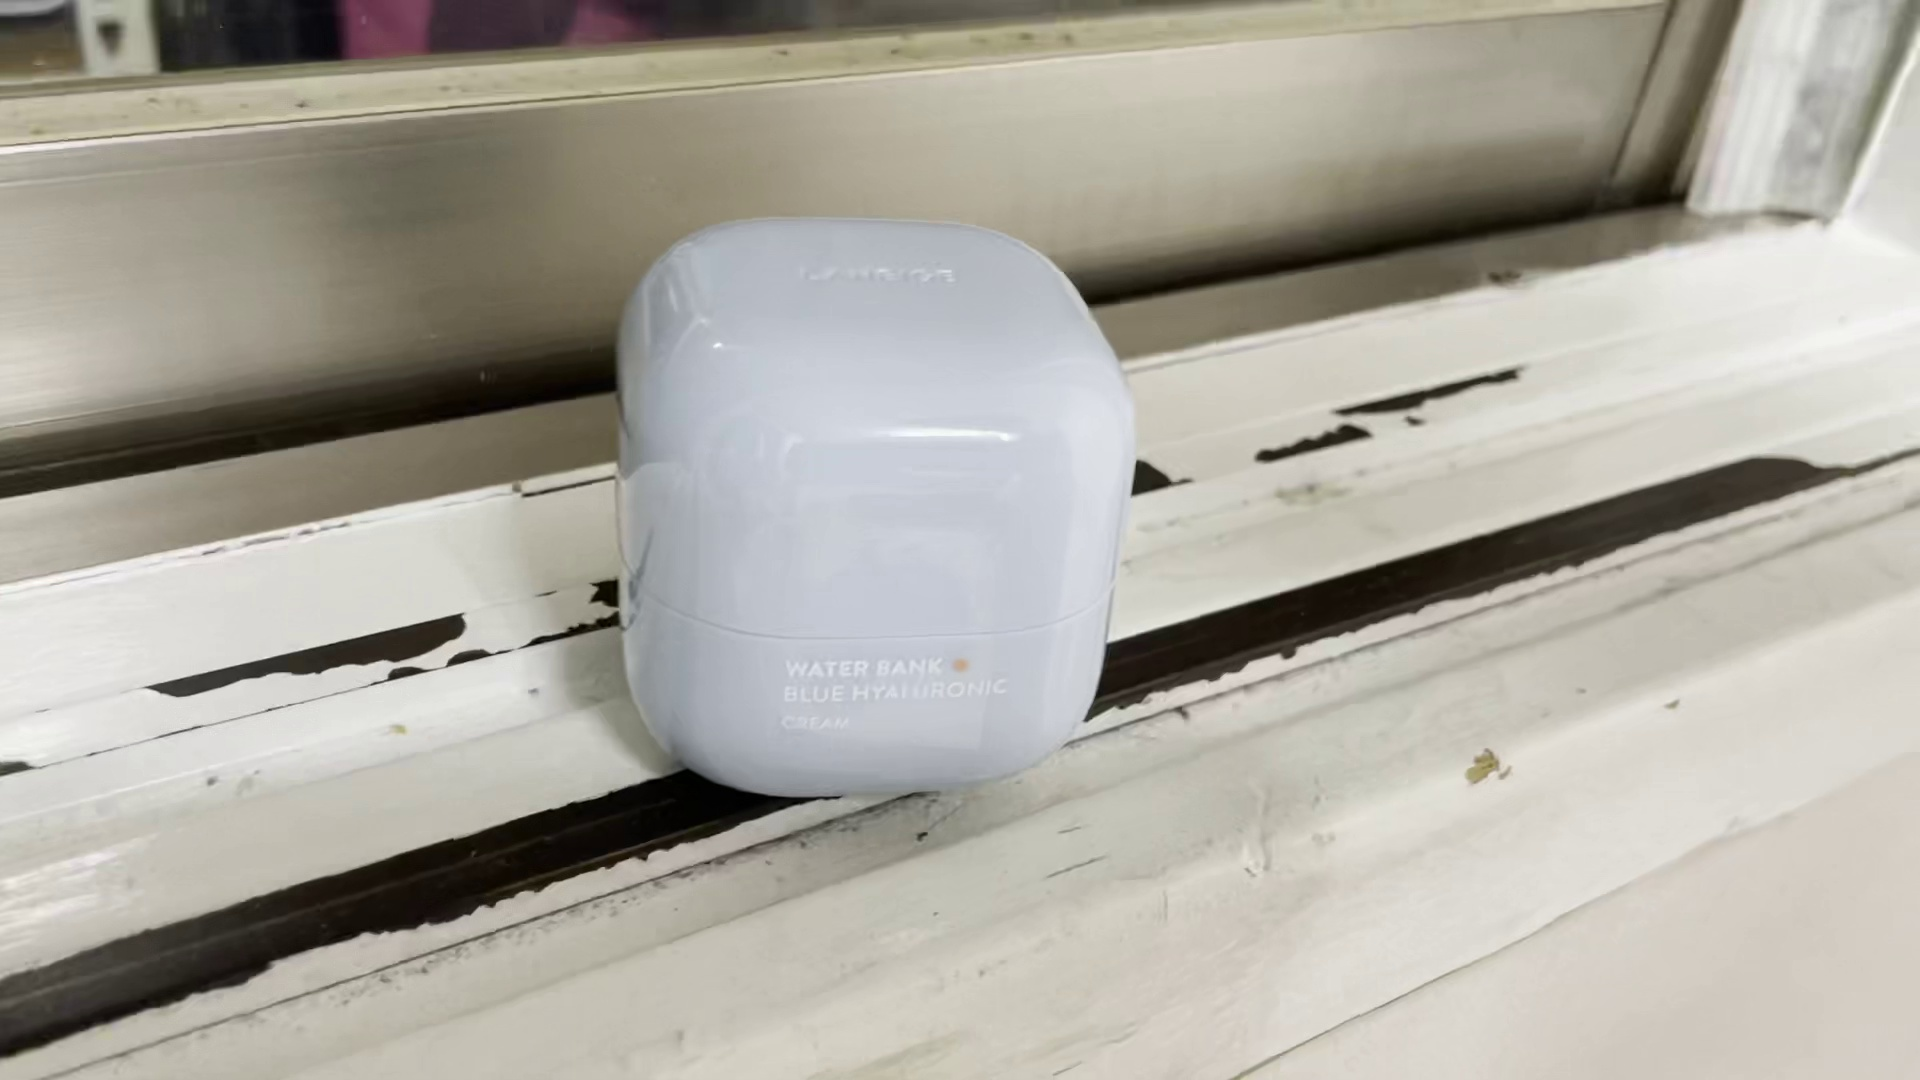cream: (612, 219, 1131, 793)
